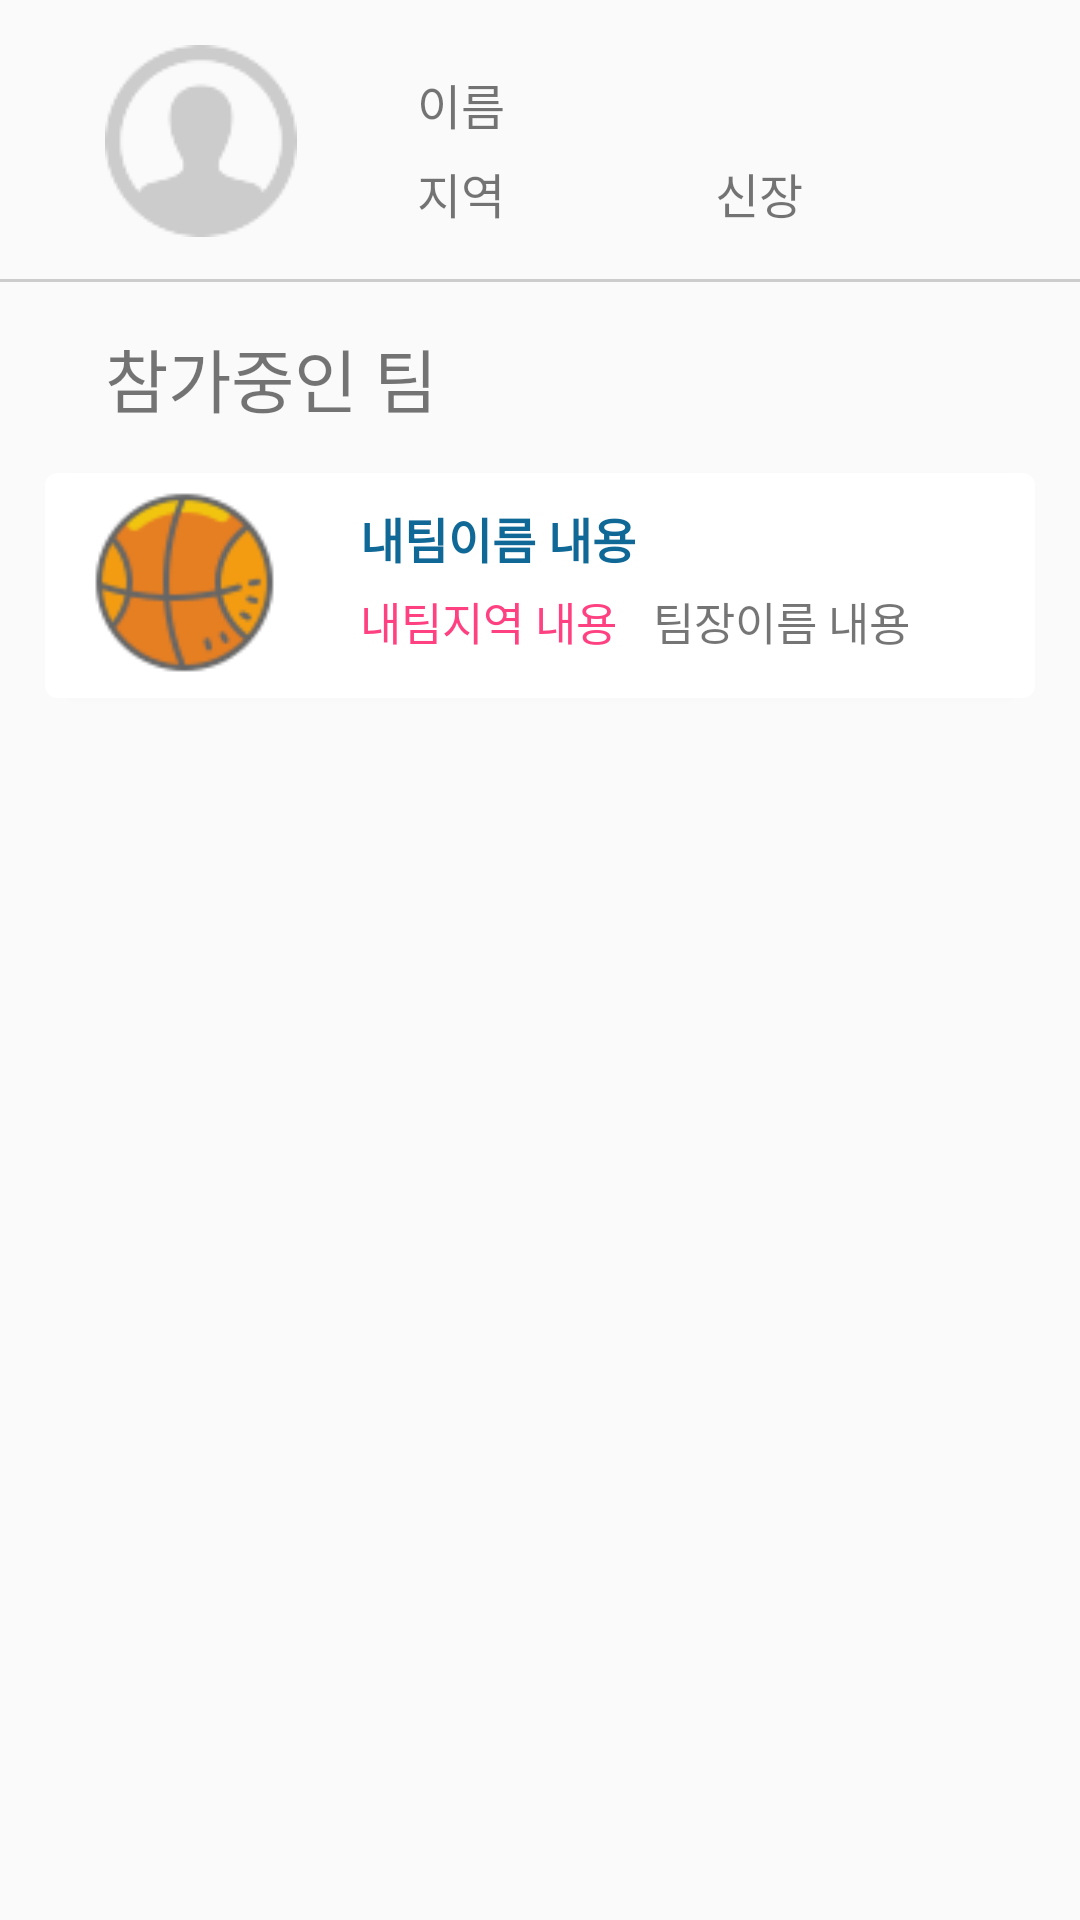

Icons on this 1080px×1920px Android screen, each with the point to tap as [x,y]:
ballicon: [184,582]
person: [201,141]
